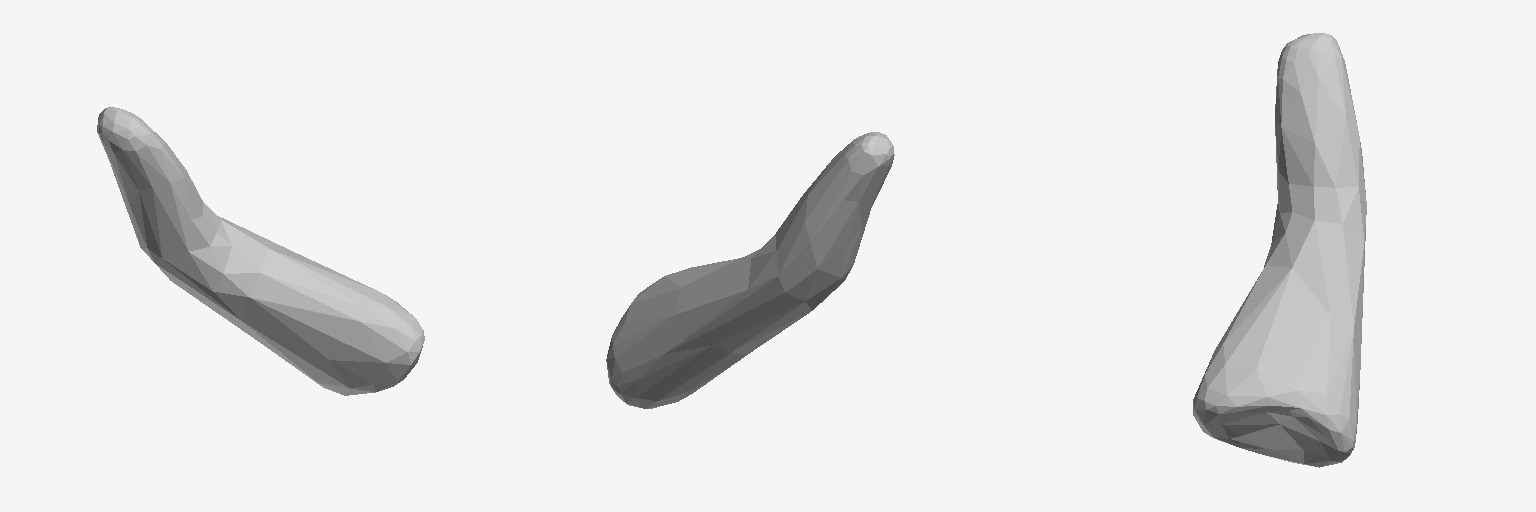
File: renal vein_2.obj
3 views of the same model, side by side, from view 1: azimuth 30°, elevation 25°; view 2: azimuth 150°, elevation 25°; view 3: azimuth 270°, elevation 25° (orthographic).
Parts seen in each view (by area): view 1: grp1; view 2: grp1; view 3: grp1.
Boxes of the visible parts, x1=… form: grp1: x1=97, y1=107, x2=424, y2=395; grp1: x1=606, y1=132, x2=894, y2=408; grp1: x1=1193, y1=33, x2=1366, y2=467.
Bounding box in the file's own units: 22.36 × 24.99 × 12.11.